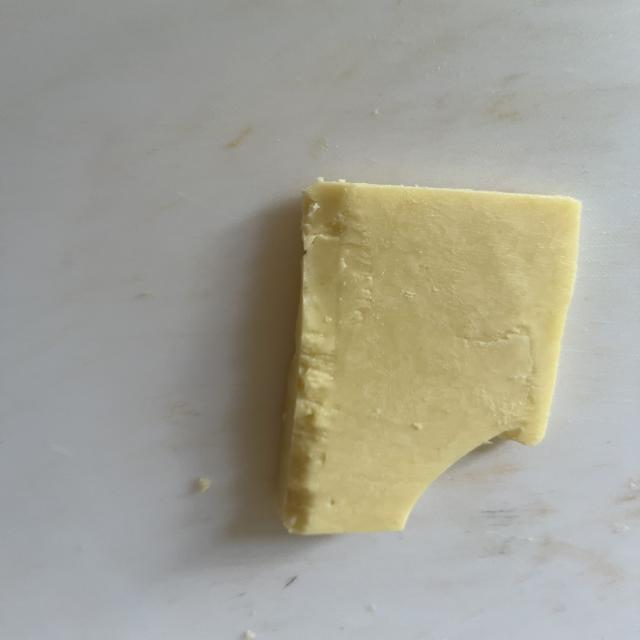cheese: (277, 181, 580, 534)
